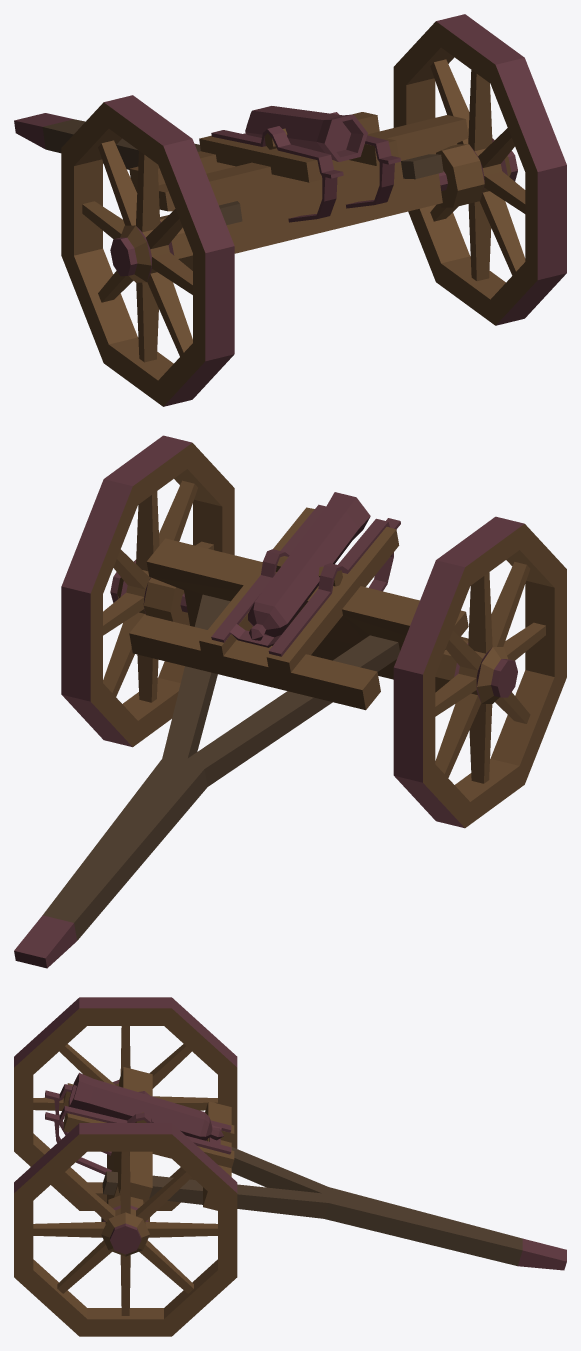
Rendered from cannon-wagon.fbx.
3 views of the same model, one above another, from view 1: azimuth 30°, elevation 25°; view 2: azimuth 150°, elevation 25°; view 3: azimuth 270°, elevation 25° (orthographic). The views are drawn at different scales.
Parts seen in each view (by area): view 1: cannon-wagon; view 2: cannon-wagon; view 3: cannon-wagon.
Part boxes in pixels (<box>): cannon-wagon: <box>14,14,566,406</box>; cannon-wagon: <box>14,435,566,968</box>; cannon-wagon: <box>14,997,566,1336</box>.
Size of the model in its own units: 1.72 by 1.11 by 2.74.
